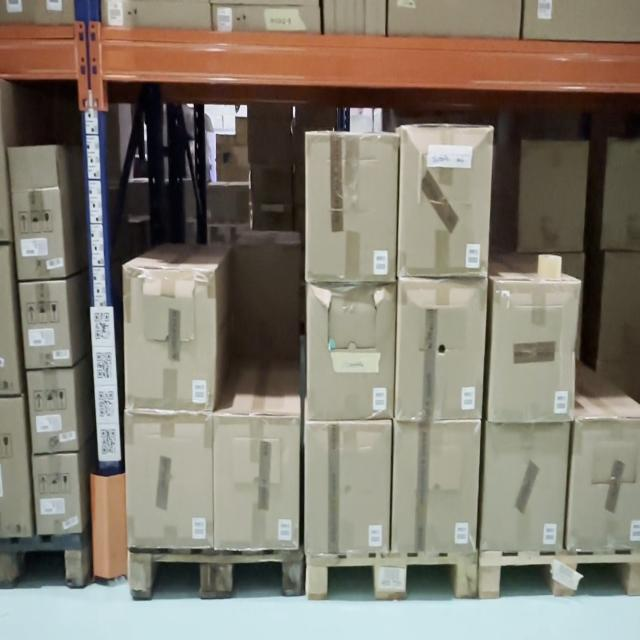box: (399, 128, 487, 274), (308, 137, 395, 280), (126, 268, 213, 409), (396, 280, 482, 419), (309, 287, 396, 419), (126, 415, 213, 547), (214, 415, 298, 547), (393, 422, 478, 550), (494, 281, 572, 419), (307, 427, 388, 550), (568, 418, 640, 552), (486, 424, 563, 548), (12, 187, 66, 279), (0, 396, 32, 538), (20, 281, 72, 366), (26, 369, 78, 454), (31, 454, 82, 535), (0, 244, 21, 394)
